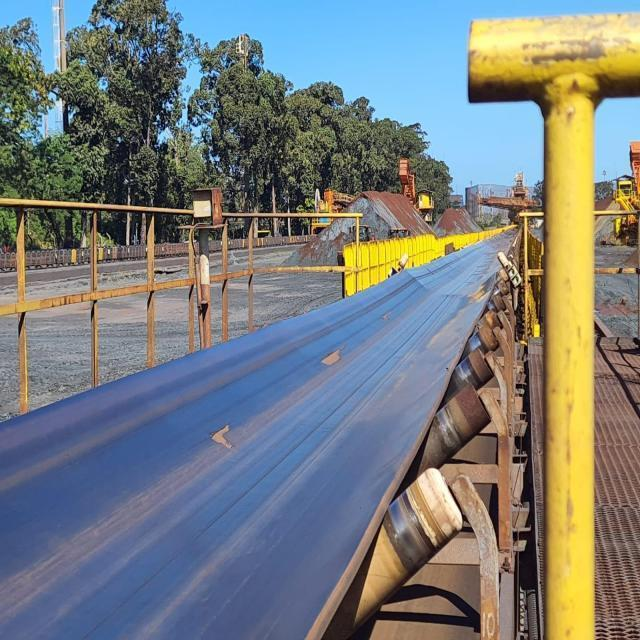Tear: (204, 422, 240, 452), (317, 343, 346, 372)
